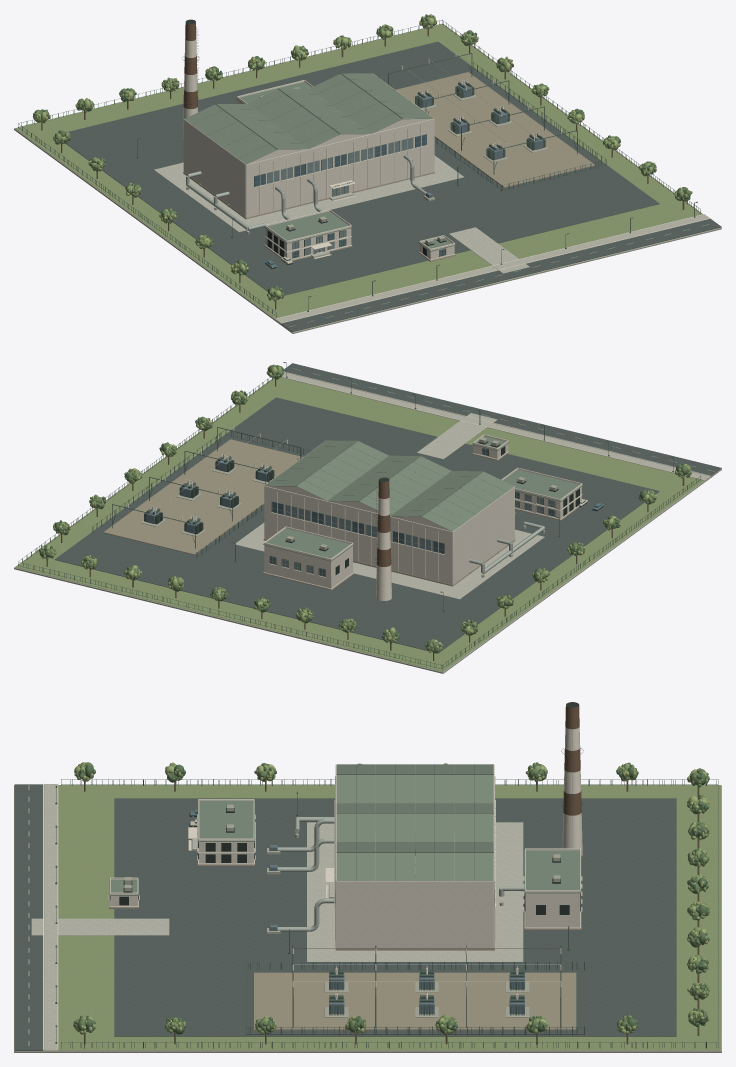
File: power-intact.glb
3 views of the same model, one above another, from view 1: azimuth 30°, elevation 25°; view 2: azimuth 150°, elevation 25°; view 3: azimuth 270°, elevation 25° (orthographic). The views are drawn at different scales.
Parts seen in each view (by area): view 1: 材质批次_asphalt, 材质批次_grass, 材质批次_sage_metal_roof, 材质批次_limestone, 材质批次_planter_gravel, 材质批次_plaza_paving, 材质批次_street_metal, 材质批次_warm_cream_trim, 材质批次_poi_service_concrete, 材质批次_leaf_2, 材质批次_leaf_0, 材质批次_leaf_1 (+9 smaller); view 2: 材质批次_asphalt, 材质批次_grass, 材质批次_sage_metal_roof, 材质批次_limestone, 材质批次_planter_gravel, 材质批次_plaza_paving, 材质批次_street_metal, 材质批次_warm_cream_trim, 材质批次_poi_service_concrete, 材质批次_leaf_1, 材质批次_leaf_2, 材质批次_leaf_0 (+9 smaller); view 3: 材质批次_asphalt, 材质批次_grass, 材质批次_sage_metal_roof, 材质批次_planter_gravel, 材质批次_plaza_paving, 材质批次_limestone, 材质批次_street_metal, 材质批次_warm_cream_trim, 材质批次_poi_service_concrete, 材质批次_leaf_1, 材质批次_wheel_and_hardware, 材质批次_leaf_3 (+8 smaller).
Boxes of the visible parts, left/top/right/bottom form: 材质批次_asphalt: left=54, top=41, right=721, bottom=331; 材质批次_grass: left=15, top=24, right=702, bottom=318; 材质批次_sage_metal_roof: left=184, top=73, right=455, bottom=251; 材质批次_limestone: left=183, top=74, right=454, bottom=259; 材质批次_planter_gravel: left=395, top=72, right=595, bottom=187; 材质批次_plaza_paving: left=154, top=155, right=709, bottom=323; 材质批次_street_metal: left=18, top=19, right=700, bottom=317; 材质批次_warm_cream_trim: left=182, top=39, right=710, bottom=323; 材质批次_poi_service_concrete: left=14, top=24, right=721, bottom=333; 材质批次_leaf_2: left=33, top=14, right=688, bottom=300; 材质批次_leaf_0: left=33, top=16, right=692, bottom=301; 材质批次_leaf_1: left=33, top=15, right=690, bottom=299; 材质批次_asphalt: left=54, top=363, right=721, bottom=653; 材质批次_grass: left=15, top=377, right=703, bottom=671; 材质批次_sage_metal_roof: left=263, top=436, right=583, bottom=561; 材质批次_limestone: left=264, top=441, right=581, bottom=588; 材质批次_planter_gravel: left=103, top=439, right=302, bottom=554; 材质批次_plaza_paving: left=234, top=372, right=710, bottom=599; 材质批次_street_metal: left=18, top=362, right=700, bottom=669; 材质批次_warm_cream_trim: left=127, top=371, right=710, bottom=600; 材质批次_poi_service_concrete: left=14, top=379, right=721, bottom=673; 材质批次_leaf_1: left=39, top=364, right=689, bottom=652; 材质批次_leaf_2: left=40, top=365, right=692, bottom=652; 材质批次_leaf_0: left=38, top=366, right=691, bottom=653; 材质批次_asphalt: left=14, top=784, right=676, bottom=1050; 材质批次_grass: left=58, top=785, right=720, bottom=1050; 材质批次_sage_metal_roof: left=109, top=764, right=581, bottom=895; 材质批次_planter_gravel: left=254, top=972, right=576, bottom=1030; 材质批次_plaza_paving: left=31, top=784, right=523, bottom=1050; 材质批次_limestone: left=110, top=764, right=580, bottom=948; 材质批次_street_metal: left=55, top=721, right=718, bottom=1048; 材质批次_warm_cream_trim: left=43, top=727, right=582, bottom=1050; 材质批次_poi_service_concrete: left=14, top=785, right=721, bottom=1052; 材质批次_leaf_1: left=73, top=762, right=709, bottom=1033; 材质批次_wheel_and_hardware: left=192, top=816, right=560, bottom=981; 材质批次_leaf_3: left=73, top=763, right=709, bottom=1034.
Size of the model in its own units: 160 by 43.6 by 180.
29 materials, 5 textured.
